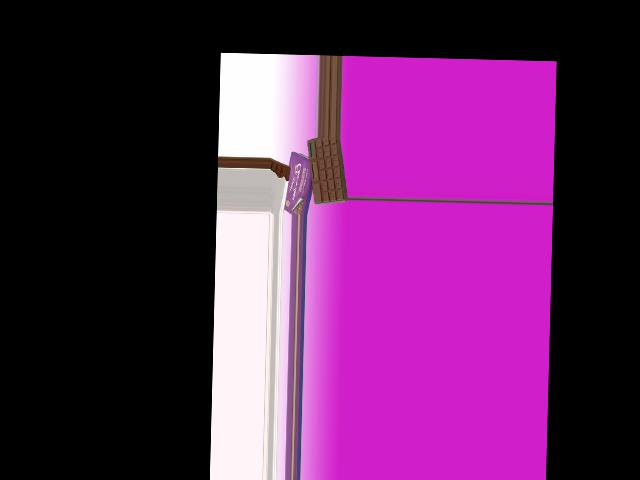chocolate: (304, 139, 349, 203)
